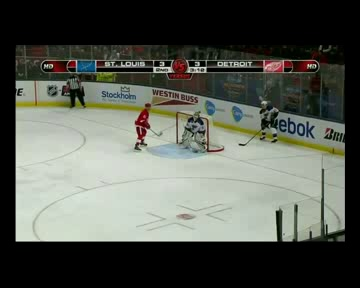normal: (124, 96, 157, 154), (252, 93, 284, 145)
